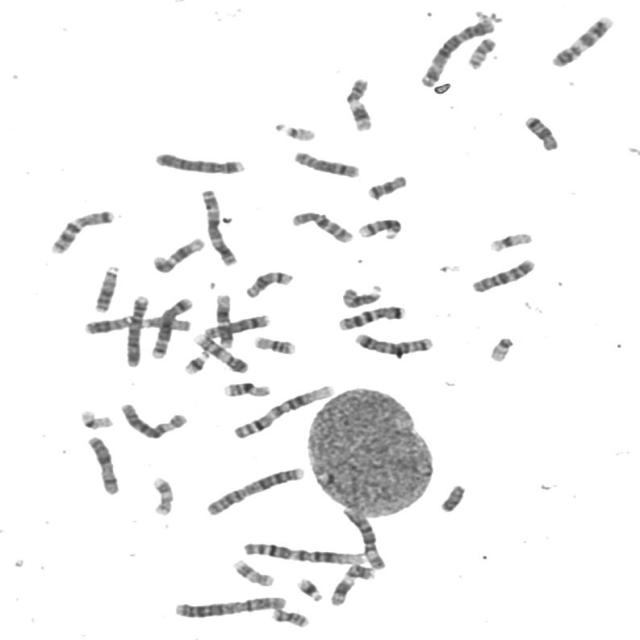A1: (228, 379, 338, 440), (240, 537, 369, 566)
A2: (201, 462, 307, 517), (169, 590, 289, 620)
A3: (416, 14, 498, 88), (196, 185, 240, 266)
B4: (149, 147, 248, 175), (120, 290, 151, 368)
B5: (147, 292, 194, 360), (349, 328, 435, 356)
C10: (467, 254, 538, 295), (287, 207, 356, 244)
C11: (326, 560, 377, 608), (341, 73, 375, 133)
C12: (148, 232, 206, 274), (212, 290, 236, 349)
C6: (339, 503, 387, 571), (116, 399, 190, 440)
C7: (45, 204, 116, 256), (333, 302, 408, 332)
C8: (288, 146, 362, 179), (200, 309, 272, 340)
C9: (546, 11, 616, 68), (189, 330, 250, 374)
D13: (90, 261, 121, 314), (81, 312, 137, 335)
D14: (240, 266, 296, 300), (354, 214, 404, 240)
D15: (338, 282, 384, 310), (134, 314, 193, 335)
E16: (249, 331, 298, 356), (219, 377, 273, 399)
E17: (228, 555, 277, 588), (148, 472, 176, 517)
E18: (520, 111, 561, 152), (362, 171, 410, 201)
F19: (484, 228, 534, 252), (75, 404, 115, 431)
F20: (462, 33, 499, 70), (268, 604, 311, 629)
G21: (293, 574, 325, 602), (179, 348, 211, 376)
G22: (272, 119, 318, 142), (484, 332, 517, 363)
X: (82, 431, 122, 496)
Y: (436, 479, 467, 514)
